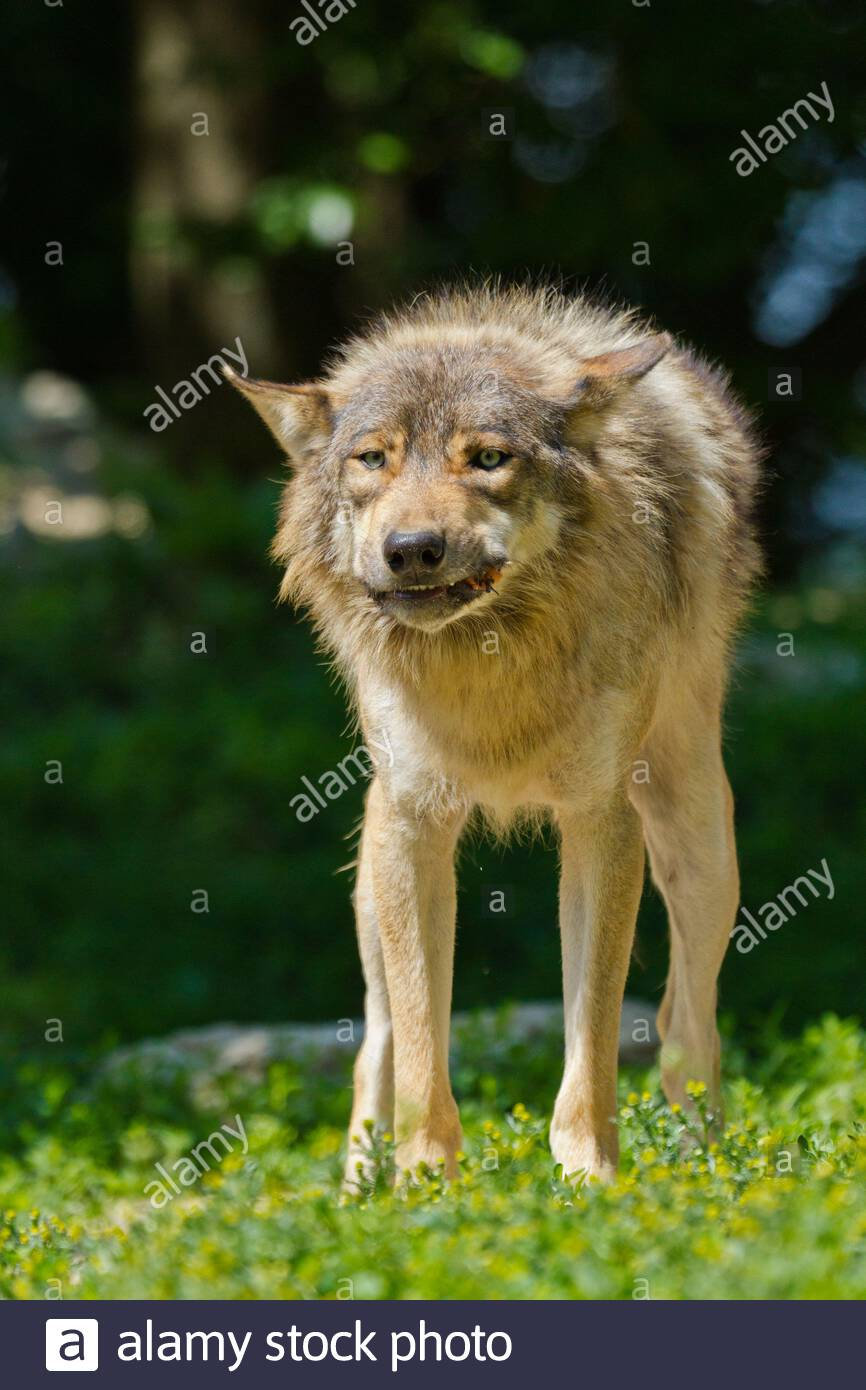Lobo: (89, 226, 778, 1200)
